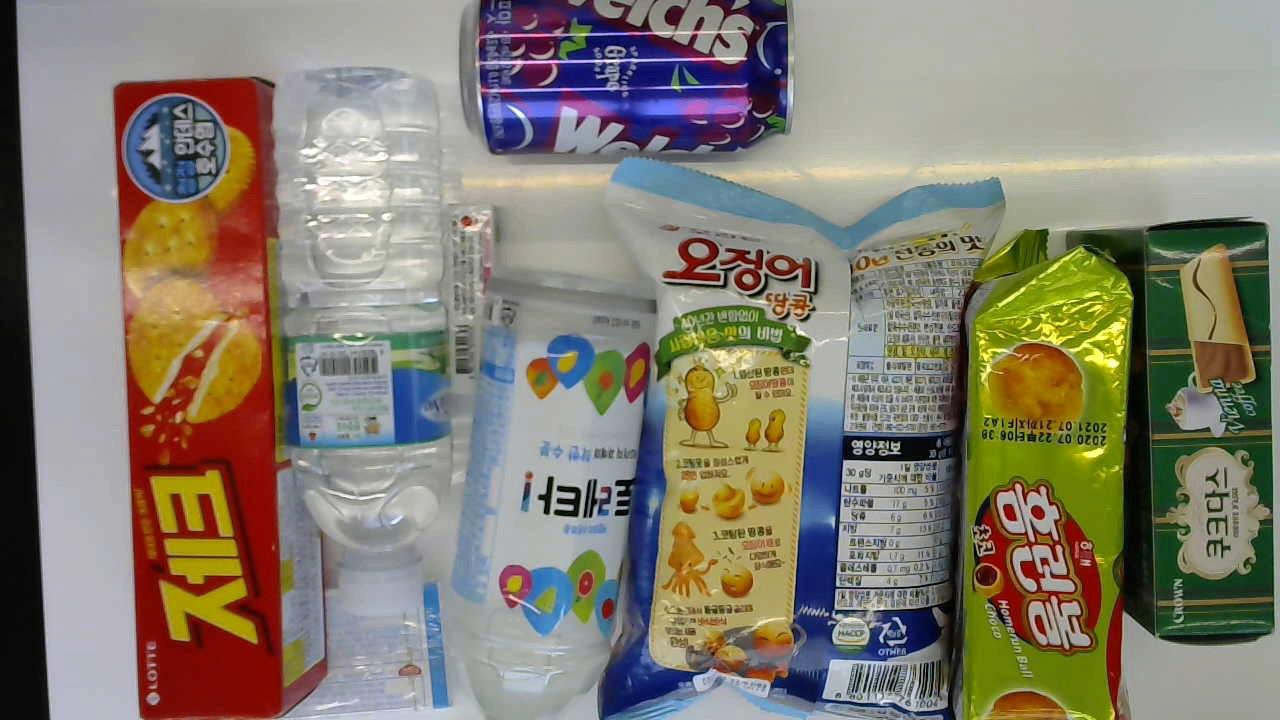ID_gum: (296, 579, 455, 711)
couque_coffee: (1137, 207, 1276, 649)
homerunball: (948, 219, 1135, 720)
samdasu: (286, 60, 450, 630)
spearmint: (433, 197, 500, 400)
squid_peanut: (597, 159, 1016, 719)
toreta: (455, 247, 652, 716)
welchs: (456, 0, 803, 158)
zec: (110, 72, 327, 720), (1137, 207, 1276, 649)
